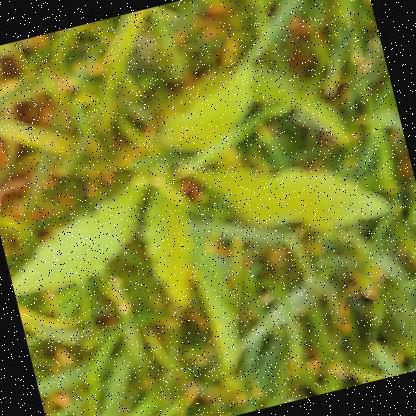Weeds: (0, 27, 408, 349)
